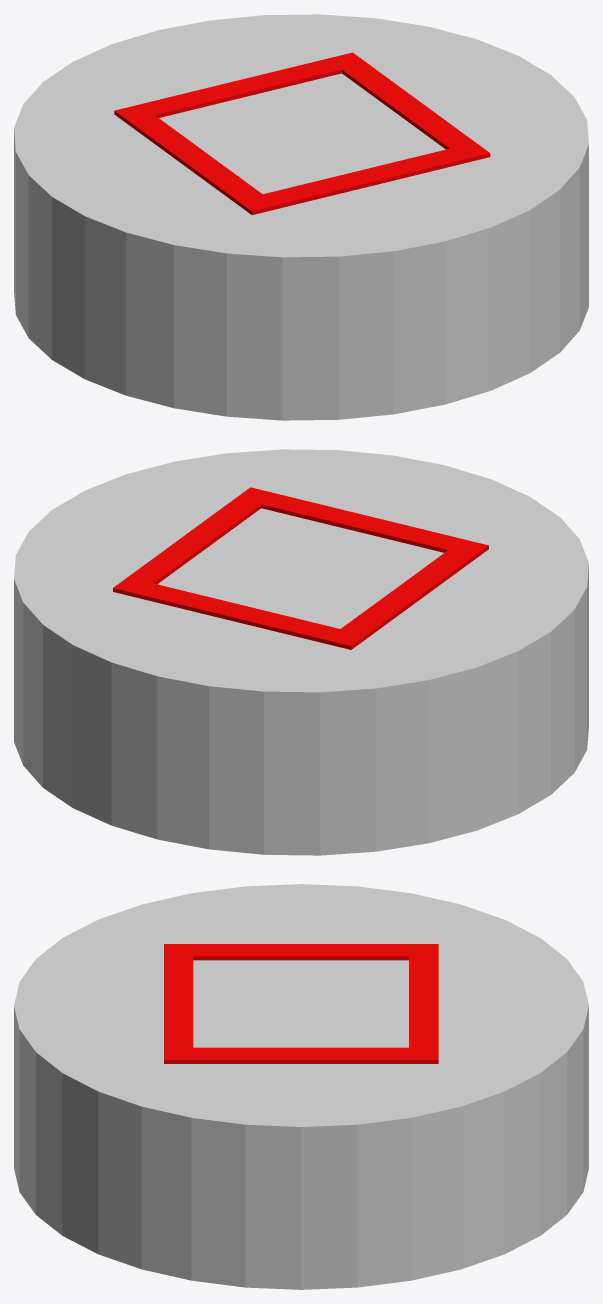
The model's file is button_square_v3.fbx.
3 views of the same model, one above another, from view 1: azimuth 30°, elevation 25°; view 2: azimuth 150°, elevation 25°; view 3: azimuth 270°, elevation 25° (orthographic).
Visible parts, largest first — view 1: Cube; view 2: Cube; view 3: Cube.
Part boxes in pixels (bbox=[...]): Cube: bbox=[14, 14, 588, 420]; Cube: bbox=[14, 449, 588, 855]; Cube: bbox=[14, 884, 588, 1289].
Size of the model in its own units: 80 by 25.6 by 80.
